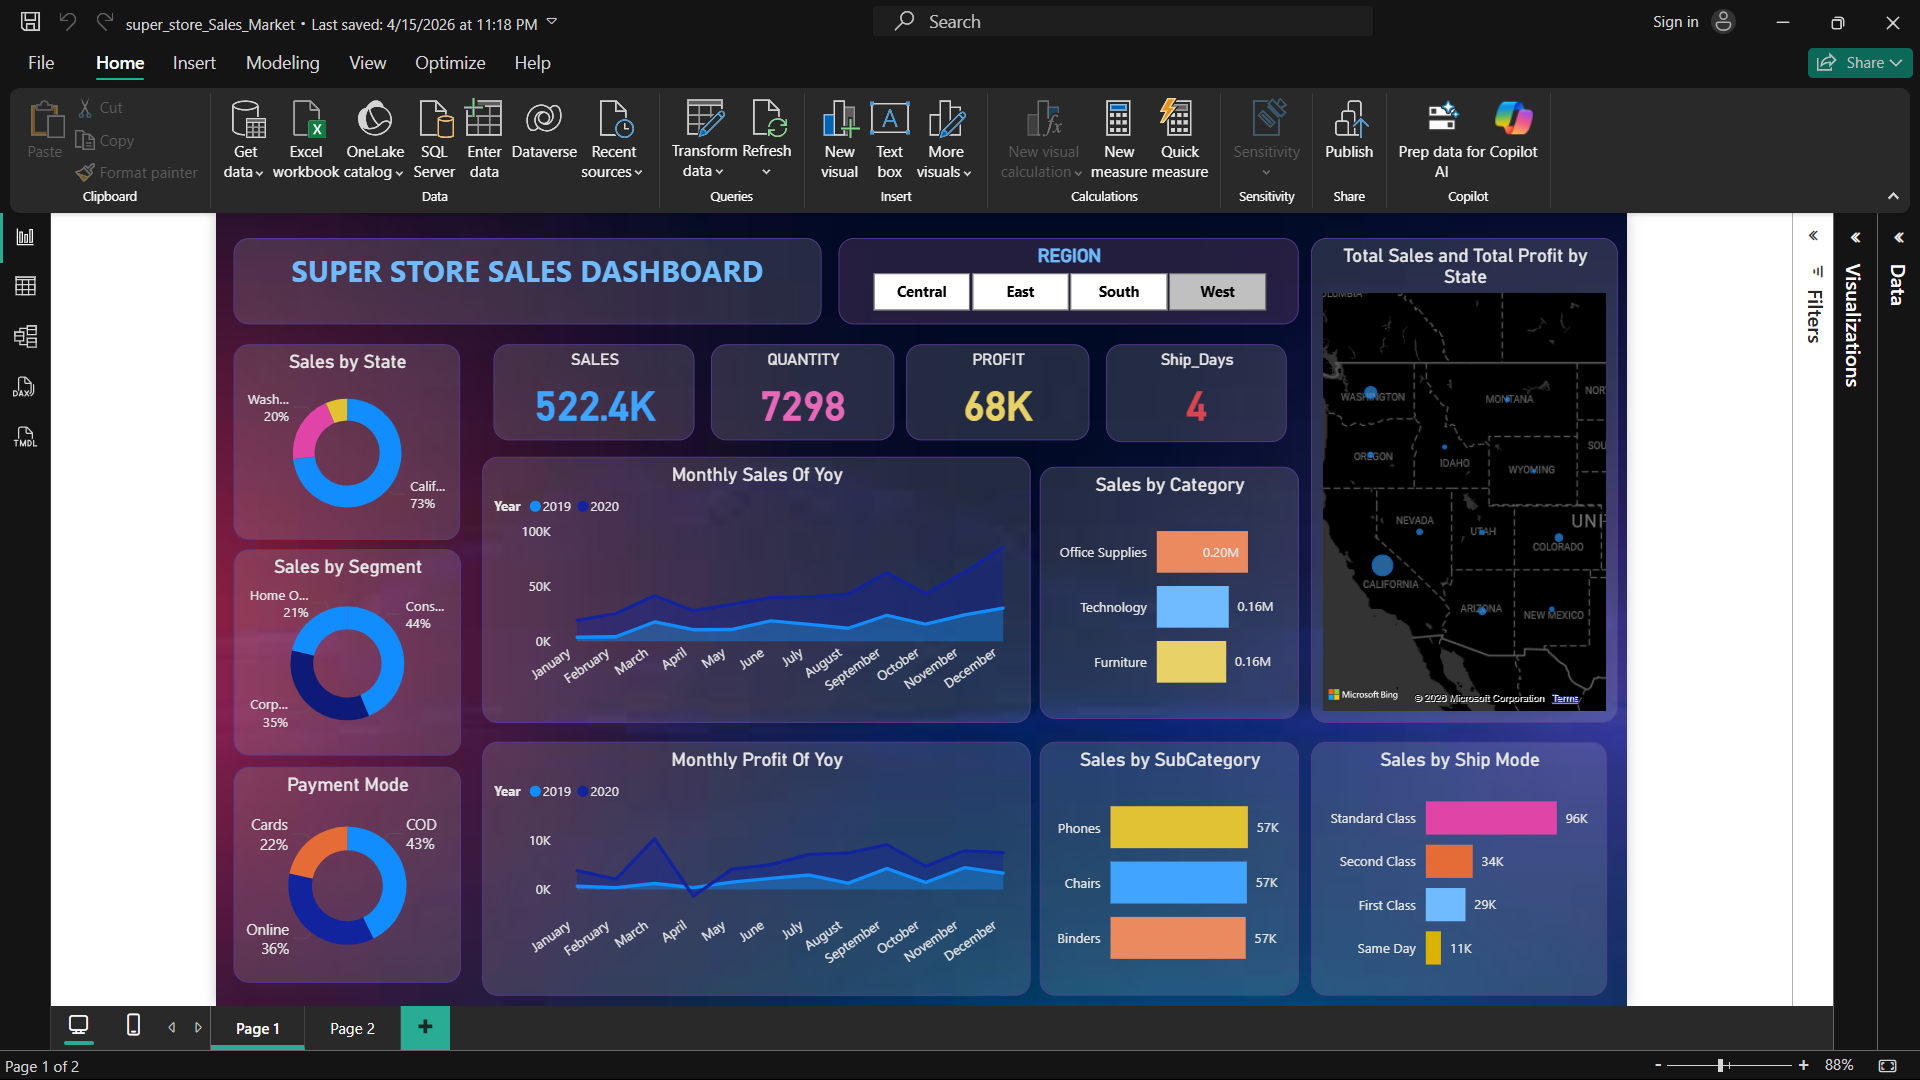

What the dashboard file says about the page in this screenshot:
{"tool":"powerbi","page":{"name":"Page 1","canvas":[1280,720],"ordinal":0},"visuals":[{"type":"clusteredBarChart","title":"Sales by Category","fields":{"Category":["Sheet1.Category"],"Y":["Sum(Sheet1.Sales)"]},"box":[747.5,230,235,228.8],"z":0},{"type":"clusteredBarChart","title":"Sales by SubCategory","fields":{"Category":["Sheet1.Sub-Category"],"Y":["Sum(Sheet1.Sales)"]},"box":[747.5,480,235,230],"z":1000},{"type":"clusteredBarChart","title":"Sales by Ship Mode","fields":{"Category":["Sheet1.Ship Mode"],"Y":["Sum(Sheet1.Sales)"]},"box":[993.8,480,268.8,230],"z":2000},{"type":"stackedAreaChart","title":" Monthly Profit Of Yoy","fields":{"Category":["Sheet1.Order Date.Variation.Date Hierarchy.Month","Sheet1.Order Date.Variation.Date Hierarchy.Day"],"Series":["Sheet1.Order Date.Variation.Date Hierarchy.Year"],"Y":["Sum(Sheet1.Profit)"]},"box":[241.2,480,497.5,230],"z":3000},{"type":"stackedAreaChart","title":" Monthly Sales Of Yoy","fields":{"Category":["Sheet1.Order Date.Variation.Date Hierarchy.Month","Sheet1.Order Date.Variation.Date Hierarchy.Day"],"Series":["Sheet1.Order Date.Variation.Date Hierarchy.Year"],"Y":["Sum(Sheet1.Sales)"]},"box":[241.2,221.2,497.5,241.2],"z":4000},{"type":"map","title":"Total Sales and Total Profit by State","fields":{"Category":["Sheet1.State"],"Size":["Sum(Sheet1.Sales)"]},"box":[993.8,22.5,278.8,440],"z":5000},{"type":"donutChart","title":"Sales by Segment","fields":{"Category":["Sheet1.Segment"],"Y":["Sum(Sheet1.Sales)"]},"box":[16.2,305,206.2,187.5],"z":6000},{"type":"donutChart","title":" Payment Mode","fields":{"Category":["Sheet1.Payment Mode"],"Y":["Sum(Sheet1.Sales)"]},"box":[16.2,502.5,206.2,196.2],"z":7000},{"type":"slicer","title":"REGION","fields":{"Values":["Sheet1.Region"]},"box":[565,22.5,417.5,78.8],"z":8000},{"type":"textbox","box":[16.2,22.5,533.8,78.8],"z":9000},{"type":"card","title":"SALES","fields":{"Values":["Sum(Sheet1.Sales)"]},"box":[251.2,118.8,182.5,87.5],"z":10000},{"type":"card","title":"QUANTITY","fields":{"Values":["Sum(Sheet1.Quantity)"]},"box":[448.8,118.8,166.2,87.5],"z":11000},{"type":"card","title":"PROFIT","fields":{"Values":["Sum(Sheet1.Profit)"]},"box":[626.2,118.8,166.2,87.5],"z":12000},{"type":"card","title":"Ship_Days","fields":{"Values":["Avg(SuperStore_sales.AvgDelivery)"]},"box":[807.5,118.8,163.8,88.8],"z":13000},{"type":"donutChart","title":"Sales by State","fields":{"Category":["SuperStore_sales.State"],"Y":["Sum(Sheet1.Sales)"]},"box":[16.3,118.6,205.8,177.9],"z":14000}]}

Visuals, with their boxes on the page's 1280x720 design canvas (x1, y1, x2, y2). These are canvas units, not pixel positions in the 1920x1080 screenshot, which may show the page scaled, cropped or inside an application window:
"Sales by Category" clusteredBarChart: (x1=748, y1=230, x2=982, y2=459)
"Sales by SubCategory" clusteredBarChart: (x1=748, y1=480, x2=982, y2=710)
"Sales by Ship Mode" clusteredBarChart: (x1=994, y1=480, x2=1263, y2=710)
" Monthly Profit Of Yoy" stackedAreaChart: (x1=241, y1=480, x2=739, y2=710)
" Monthly Sales Of Yoy" stackedAreaChart: (x1=241, y1=221, x2=739, y2=462)
"Total Sales and Total Profit by State" map: (x1=994, y1=22, x2=1273, y2=462)
"Sales by Segment" donutChart: (x1=16, y1=305, x2=222, y2=492)
" Payment Mode" donutChart: (x1=16, y1=502, x2=222, y2=699)
"REGION" slicer: (x1=565, y1=22, x2=982, y2=101)
textbox: (x1=16, y1=22, x2=550, y2=101)
"SALES" card: (x1=251, y1=119, x2=434, y2=206)
"QUANTITY" card: (x1=449, y1=119, x2=615, y2=206)
"PROFIT" card: (x1=626, y1=119, x2=792, y2=206)
"Ship_Days" card: (x1=808, y1=119, x2=971, y2=208)
"Sales by State" donutChart: (x1=16, y1=119, x2=222, y2=296)
